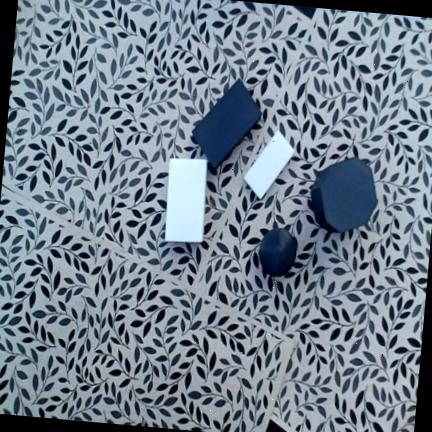Esfera: (259, 229, 297, 277)
Paralelepipedo: (193, 78, 261, 169), (243, 129, 296, 200), (164, 159, 207, 243)
Prisma_hexagonal: (311, 158, 377, 233)
